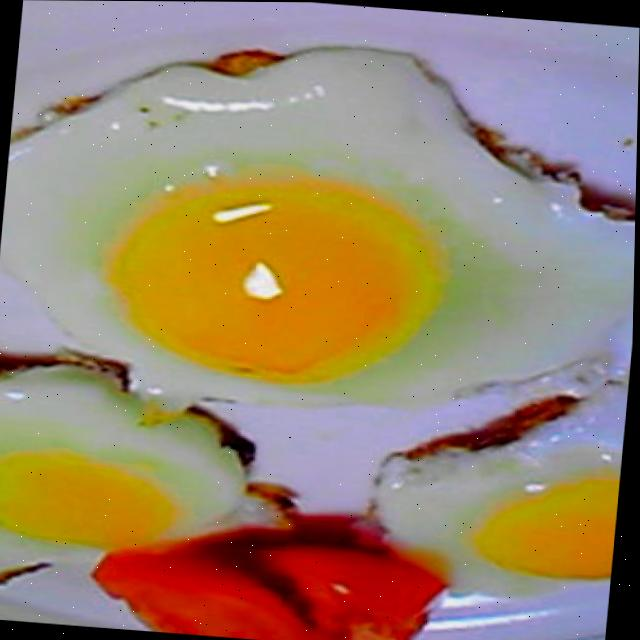鸡蛋料理: (0, 53, 639, 437)
